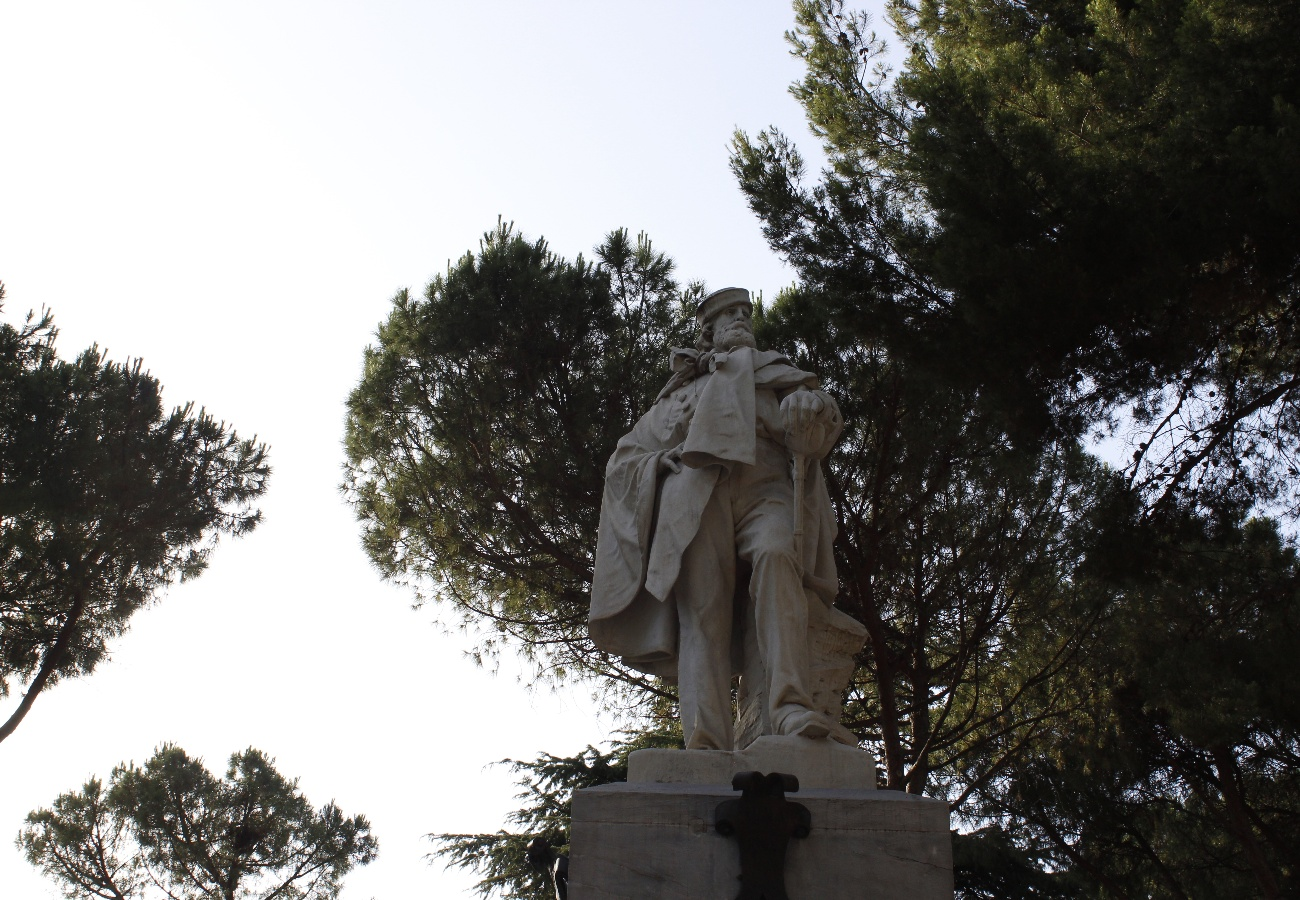Giuseppe Garibaldi: (589, 287, 842, 792)
